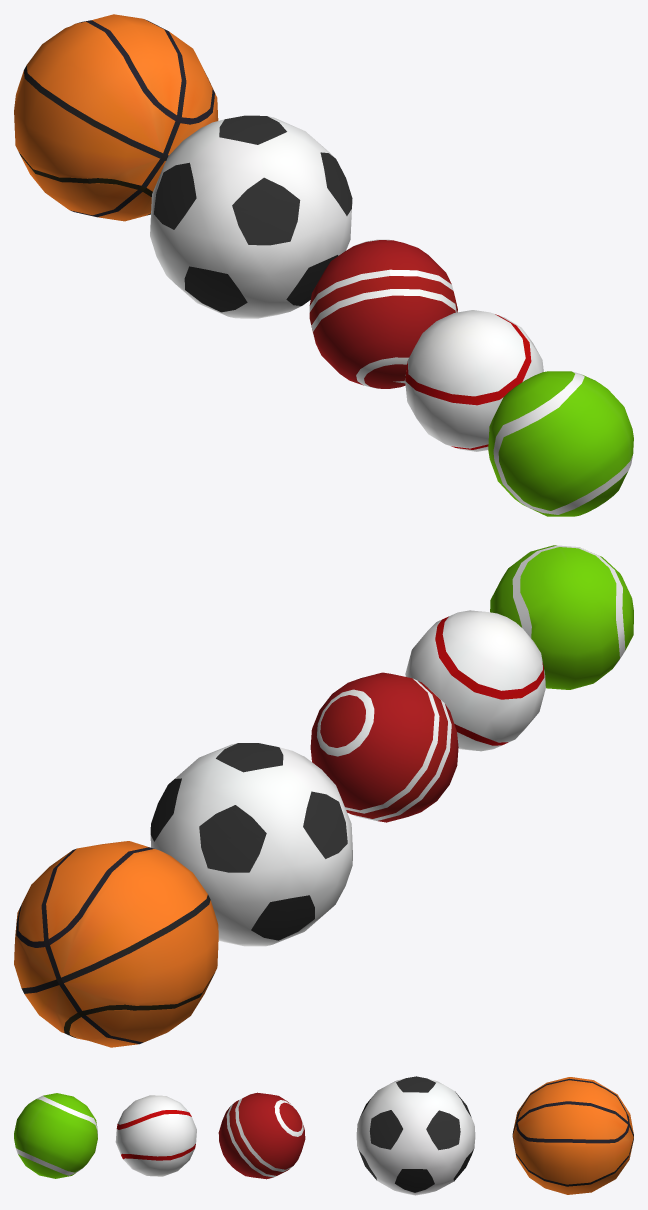
The model's file is Ball Types.fbx.
3 renders of one model, top to bottom at view 1: azimuth 30°, elevation 25°; view 2: azimuth 150°, elevation 25°; view 3: azimuth 270°, elevation 25°, orthographic. The views are drawn at different scales.
Visible parts, largest first — view 1: Soccer Ball, Basket Ball, Tennis Ball, Cricket Ball, BaseBall; view 2: Basket Ball, Soccer Ball, Cricket Ball, Tennis Ball, BaseBall; view 3: Basket Ball, Soccer Ball, Cricket Ball, Tennis Ball, BaseBall.
Boxes of the visible parts, box(x1,y1,x2,y2) form: Soccer Ball: box(150, 115, 352, 318); Basket Ball: box(14, 14, 218, 221); Tennis Ball: box(488, 371, 633, 516); Cricket Ball: box(309, 239, 457, 388); BaseBall: box(405, 310, 543, 451); Basket Ball: box(14, 841, 218, 1047); Soccer Ball: box(150, 743, 352, 946); Cricket Ball: box(310, 672, 458, 822); Tennis Ball: box(490, 545, 633, 689); BaseBall: box(405, 610, 545, 751); Basket Ball: box(512, 1077, 633, 1194); Soccer Ball: box(356, 1076, 475, 1195); Cricket Ball: box(218, 1092, 305, 1179); Tennis Ball: box(14, 1093, 97, 1178); BaseBall: box(115, 1095, 196, 1176).
Bounding box in the file's own units: 21.15 × 21.17 × 110.
1 material, 1 textured.
